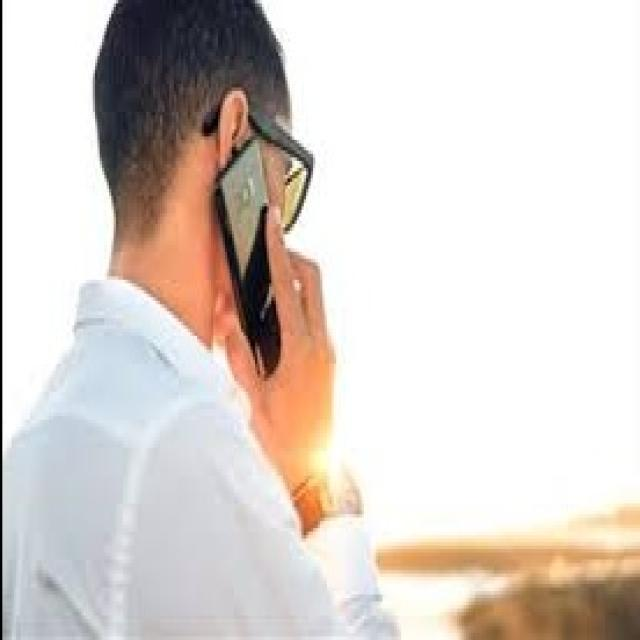phone: (219, 136, 297, 354)
